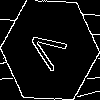V: (25, 25, 75, 78)
